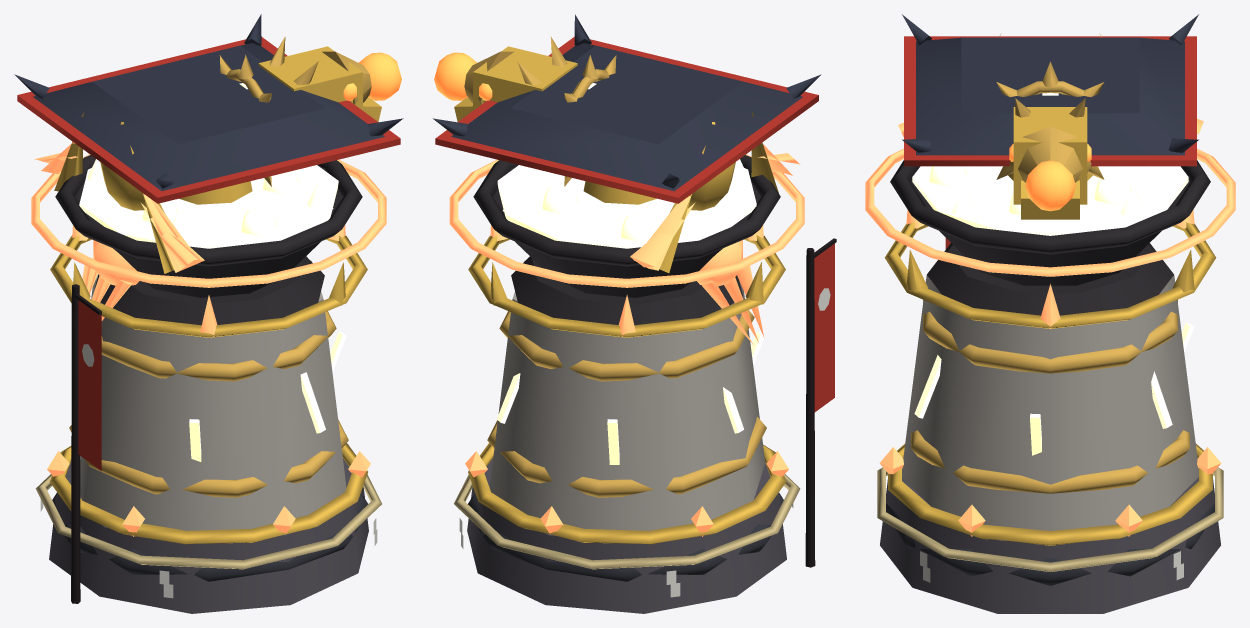
The model's file is tower_flame_sunfire_ultimate.glb.
3 views of the same model, side by side, from view 1: azimuth 30°, elevation 25°; view 2: azimuth 150°, elevation 25°; view 3: azimuth 270°, elevation 25° (orthographic). The views are drawn at different scales.
Parts seen in each view (by area): view 1: body, deco_eave_0_roof, base, coals, deco_eave_0_rim, brazier_foot, brazier_lip, ult_halo, ult_ring, ult_crown_band, ult_phoenix, deco_shimenawa_rope (+16 smaller); view 2: body, deco_eave_0_roof, base, coals, deco_eave_0_rim, brazier_foot, brazier_lip, ult_ring, ult_halo, ult_crown_band, ult_phoenix, deco_shimenawa_rope (+15 smaller); view 3: body, deco_eave_0_roof, base, coals, brazier_foot, brazier_lip, deco_eave_0_rim, ult_halo, ult_ring, ult_crown_band, body_band_0.3, deco_shimenawa_rope (+13 smaller).
Boxes of the visible parts, x1,y1,x2,y2 form: body: [70, 260, 346, 530]; deco_eave_0_roof: [33, 43, 384, 190]; base: [49, 458, 368, 613]; coals: [79, 165, 338, 248]; deco_eave_0_rim: [17, 37, 400, 203]; brazier_foot: [94, 256, 324, 325]; brazier_lip: [55, 155, 362, 266]; ult_halo: [31, 154, 386, 287]; ult_ring: [50, 443, 367, 544]; ult_crown_band: [50, 235, 367, 337]; ult_phoenix: [34, 112, 204, 320]; deco_shimenawa_rope: [35, 474, 381, 569]; body: [489, 260, 765, 530]; deco_eave_0_roof: [451, 43, 802, 191]; base: [467, 458, 786, 613]; coals: [497, 165, 756, 248]; deco_eave_0_rim: [435, 37, 818, 203]; brazier_foot: [511, 256, 742, 325]; brazier_lip: [473, 155, 780, 266]; ult_ring: [468, 443, 786, 544]; ult_halo: [449, 154, 804, 287]; ult_crown_band: [468, 235, 785, 337]; ult_phoenix: [630, 111, 800, 344]; deco_shimenawa_rope: [454, 474, 800, 569]; body: [902, 275, 1198, 530]; deco_eave_0_roof: [916, 37, 1184, 155]; base: [880, 477, 1220, 613]; coals: [912, 166, 1188, 235]; brazier_foot: [927, 243, 1173, 315]; brazier_lip: [890, 160, 1210, 254]; deco_eave_0_rim: [904, 36, 1196, 166]; ult_halo: [865, 148, 1235, 276]; ult_ring: [888, 443, 1212, 545]; ult_crown_band: [884, 222, 1216, 328]; body_band_0.3: [923, 299, 1177, 373]; deco_shimenawa_rope: [877, 467, 1223, 571].
Size of the model in its own units: 0.4907 by 0.64 by 0.4274.
